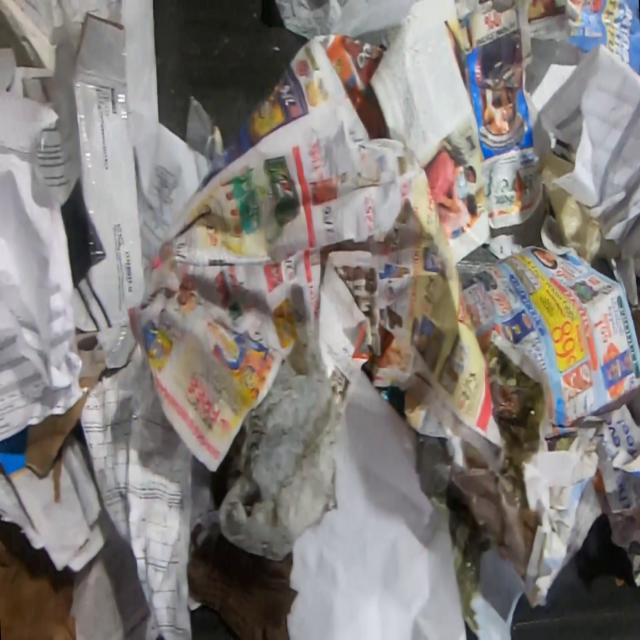cardboard: (12, 0, 146, 331), (0, 333, 108, 483), (187, 532, 300, 640), (0, 517, 79, 639)
rigid_plastic: (538, 141, 601, 266)
